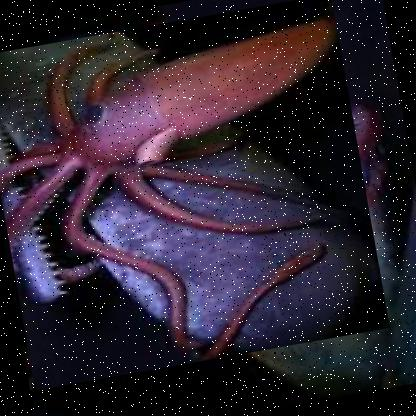colossal_squid: (0, 0, 390, 391)
